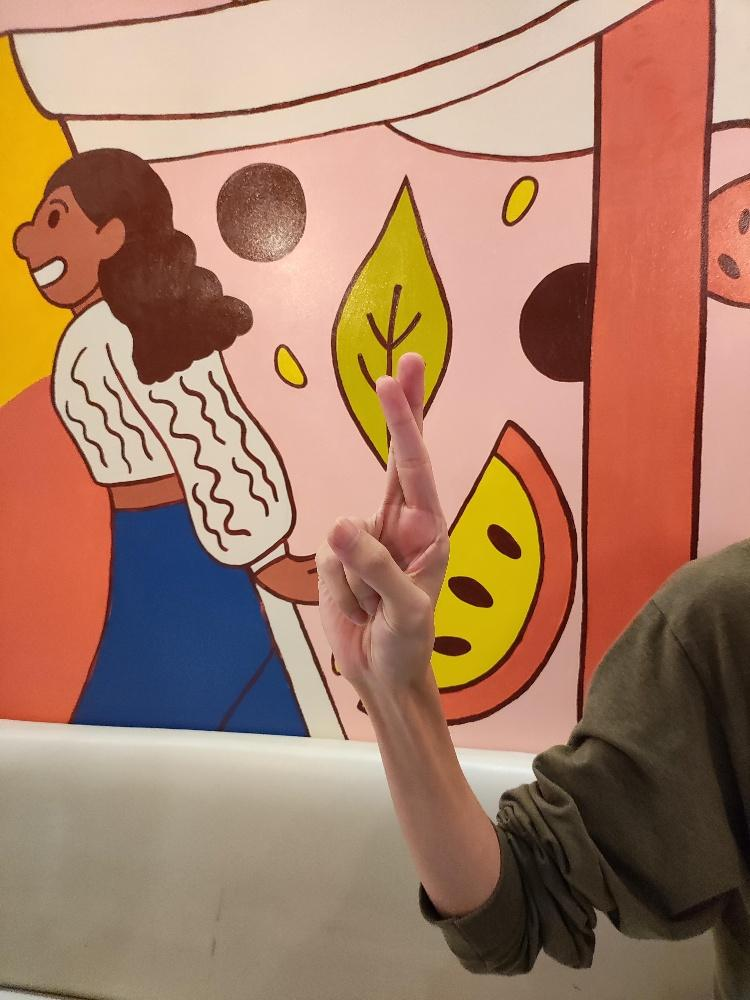r: (313, 348, 452, 690)
